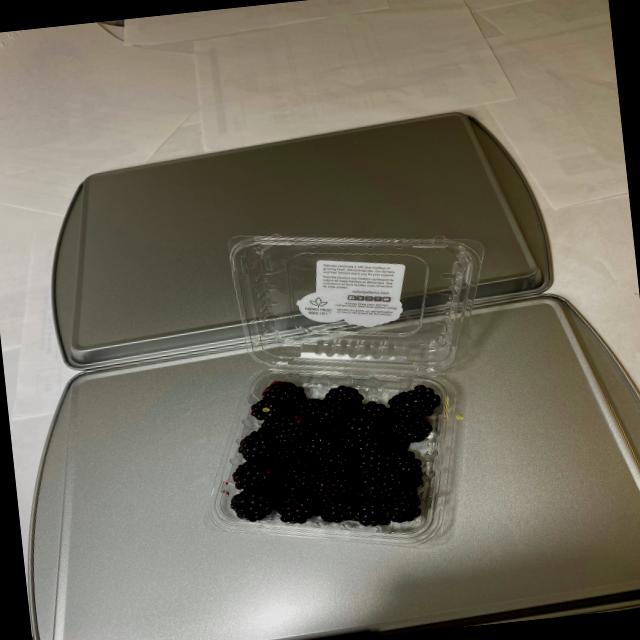blackberries: (216, 357, 465, 526)
